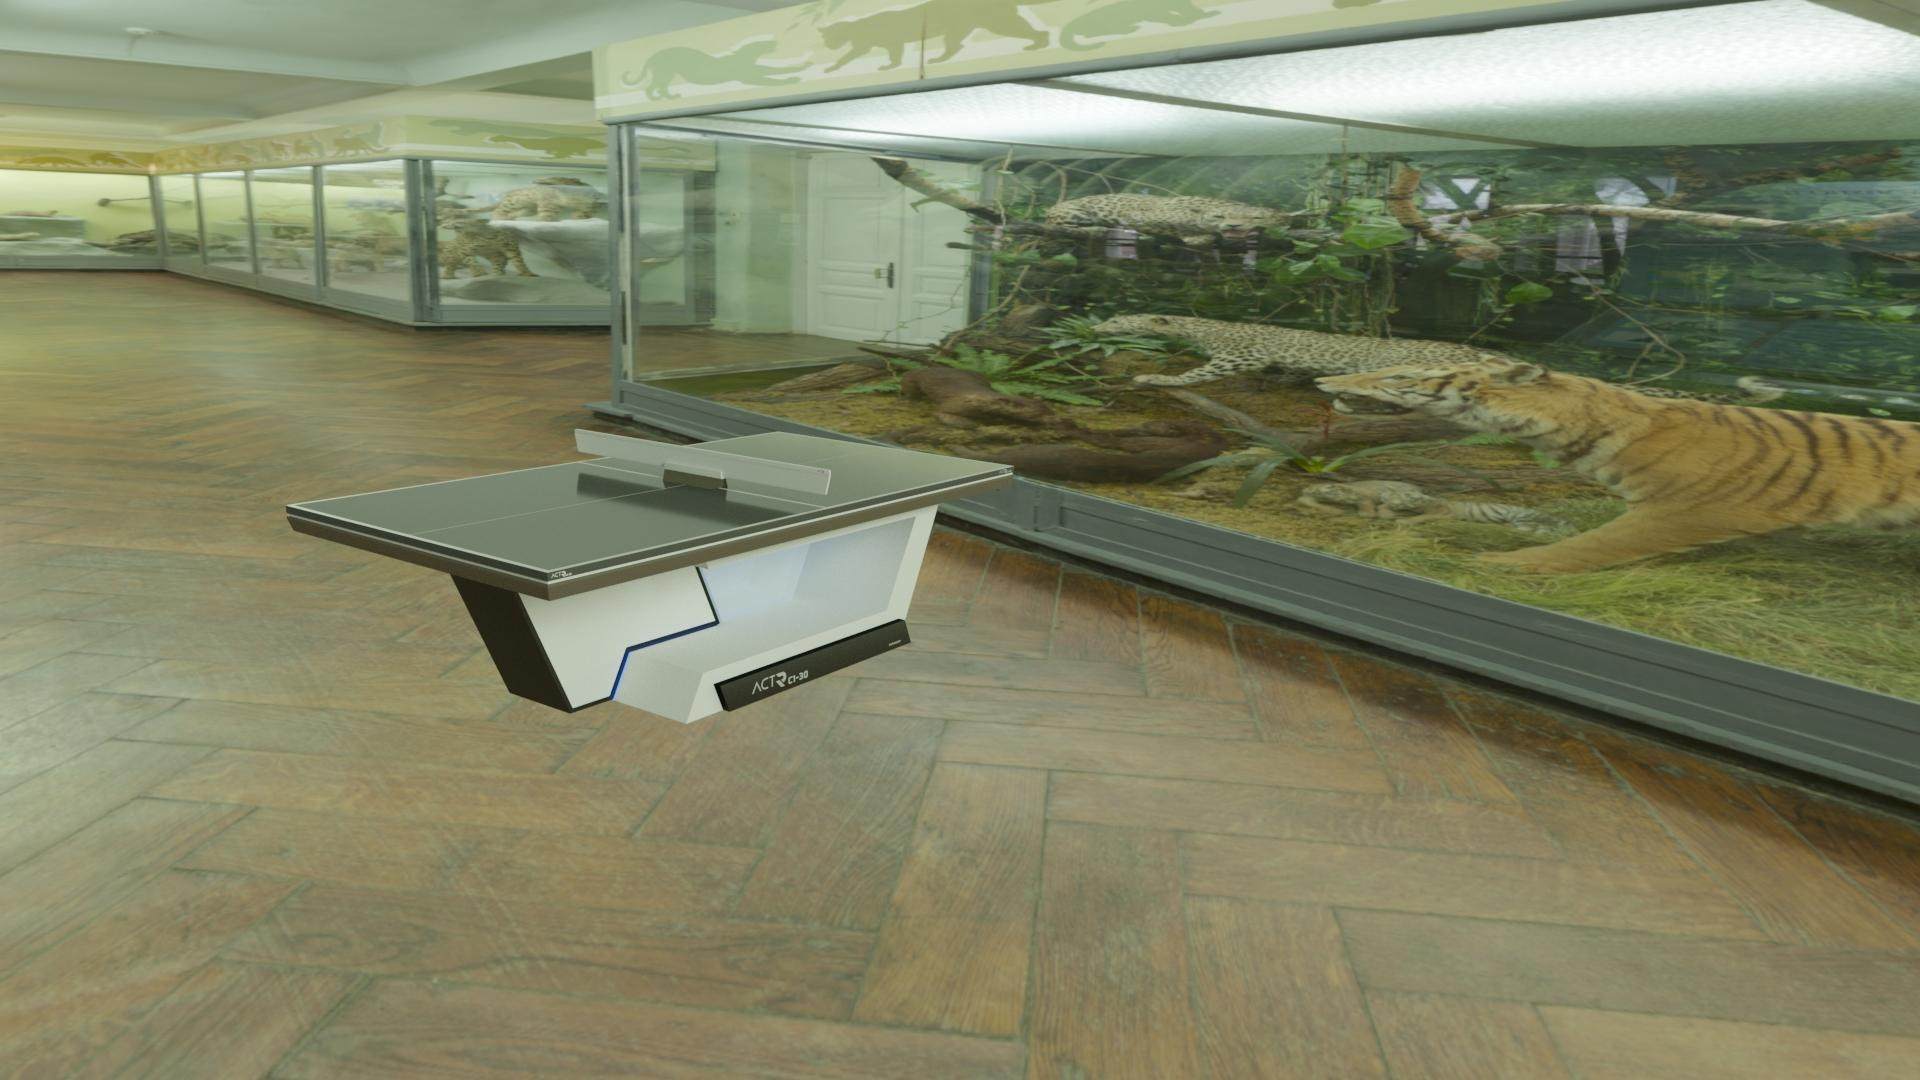table: (294, 433, 1009, 571)
